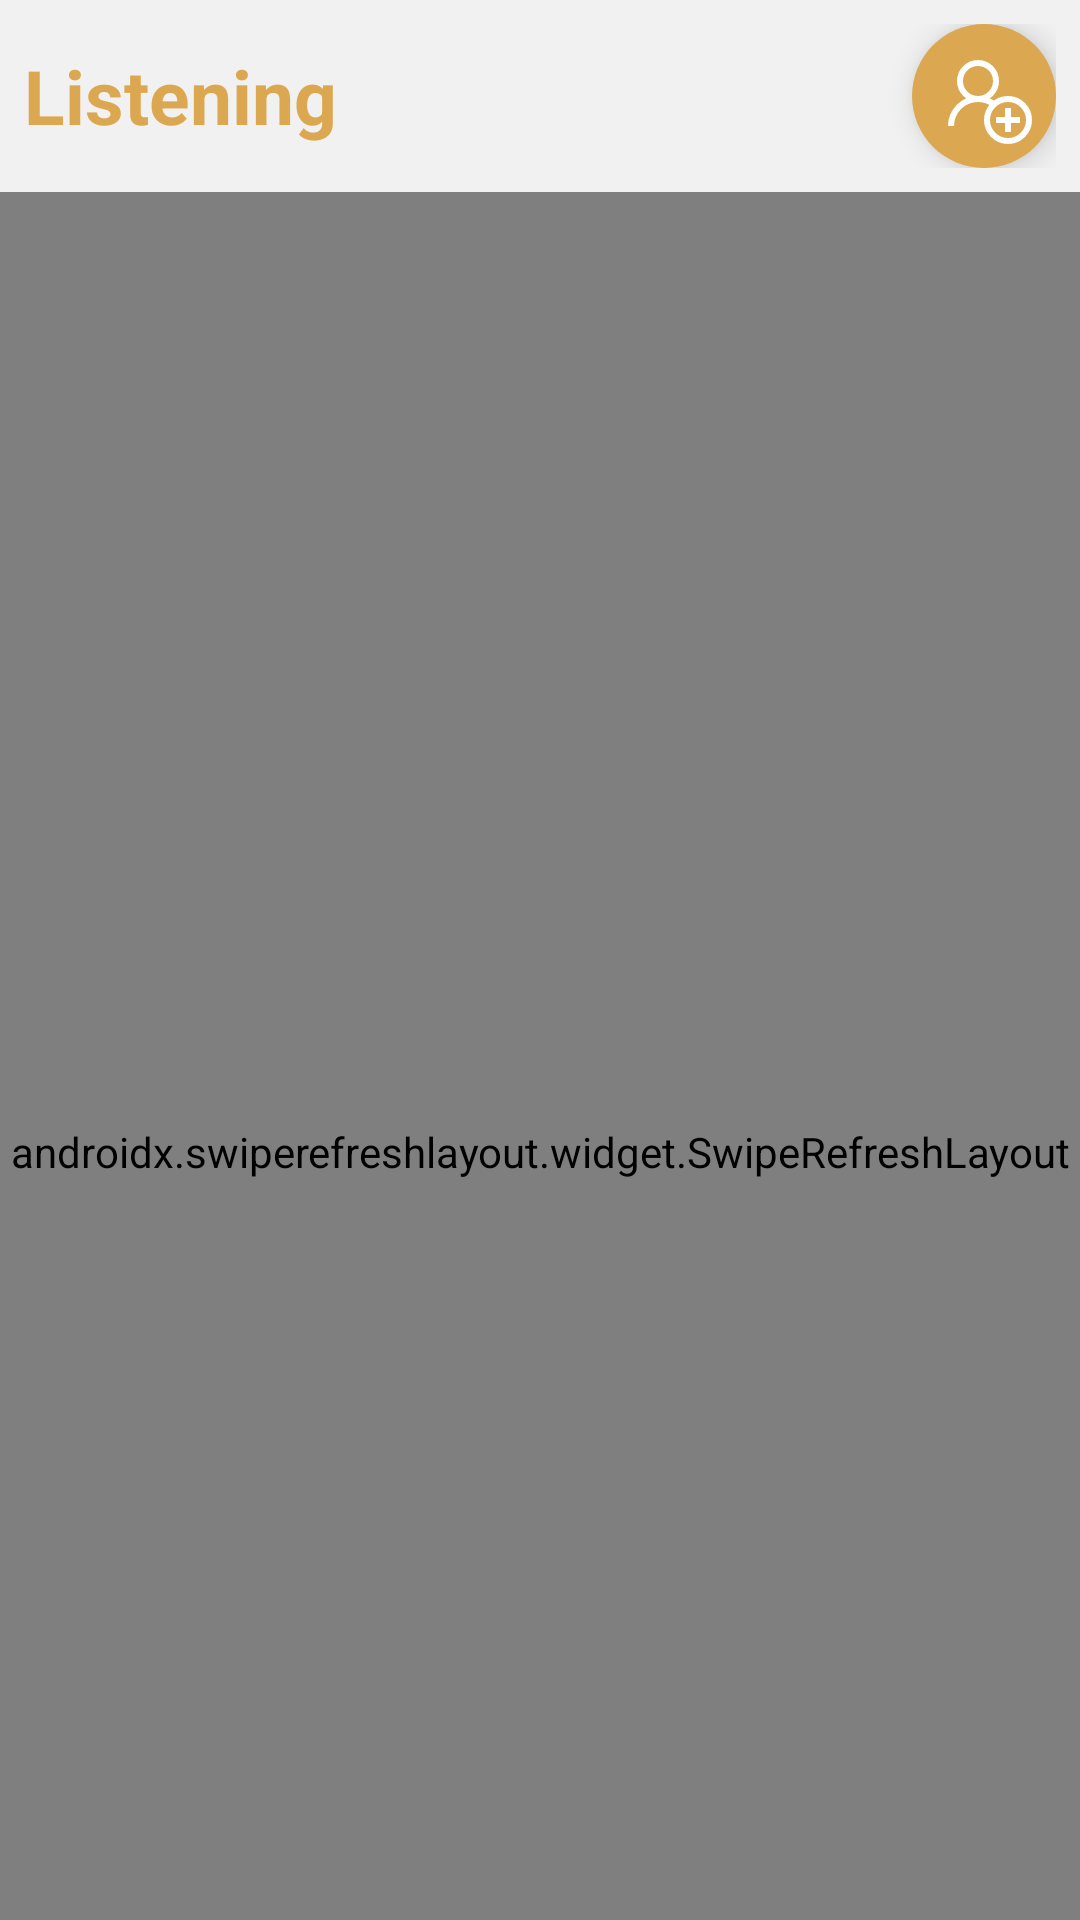

Named icons in this screenshot (1080*1920) and their centers, (x,y):
add user: (984,96)
